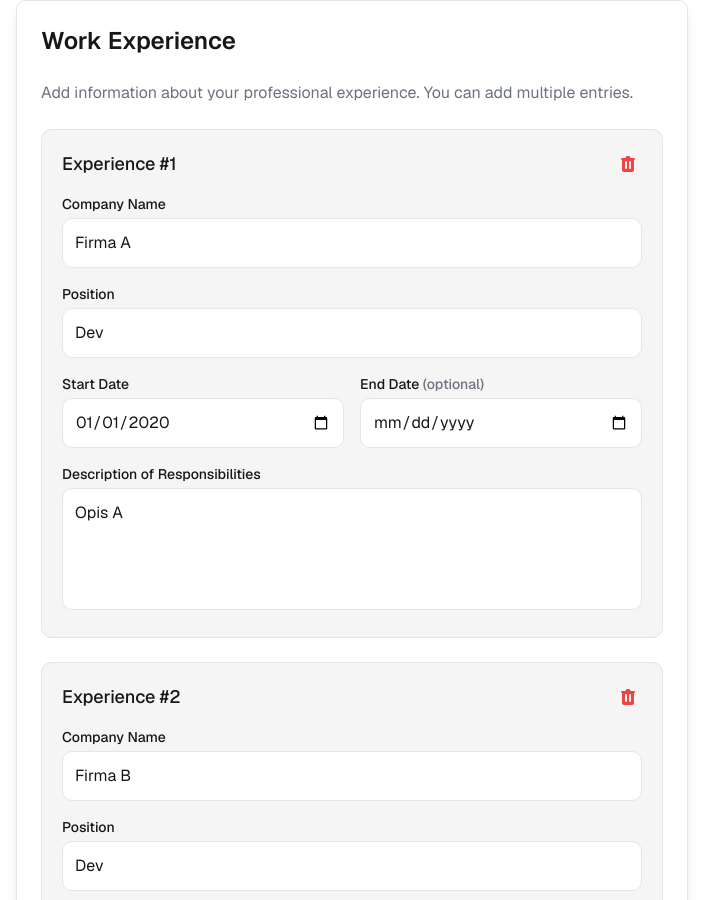
Test case: WorkExpForm Component › Zarządzanie listą (FieldArray) › powinien pozwolić usunąć wpis
Click the 1st button named "Remove experience" at {"x": 628, "y": 164}, box [614,150,642,178]
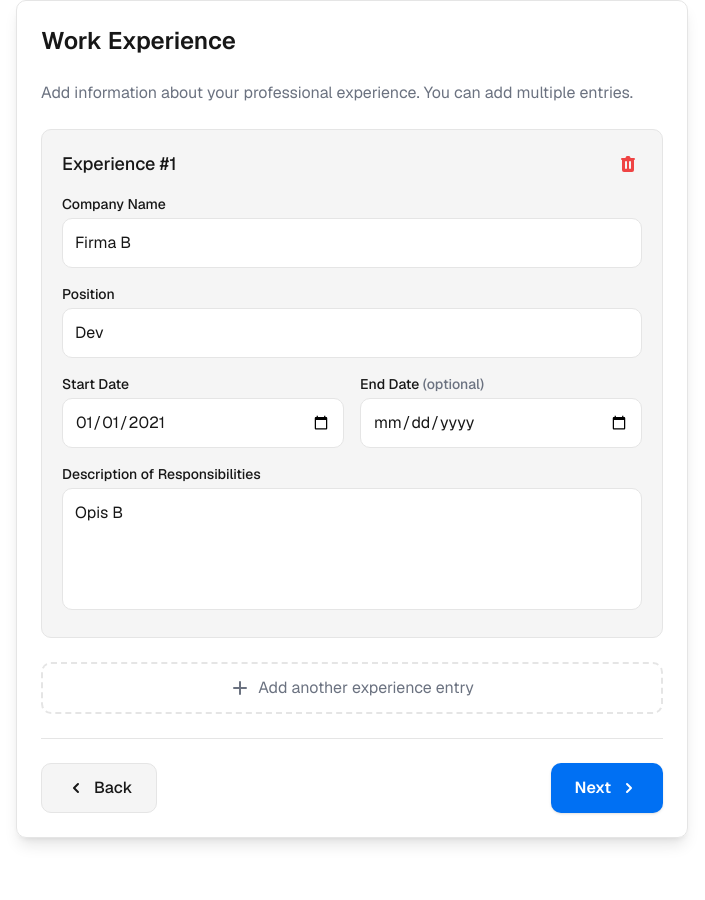
expect the field showing "Firma A" is not shown: met
expect the field showing "Firma B" is shown: met, box [62,218,642,268]
